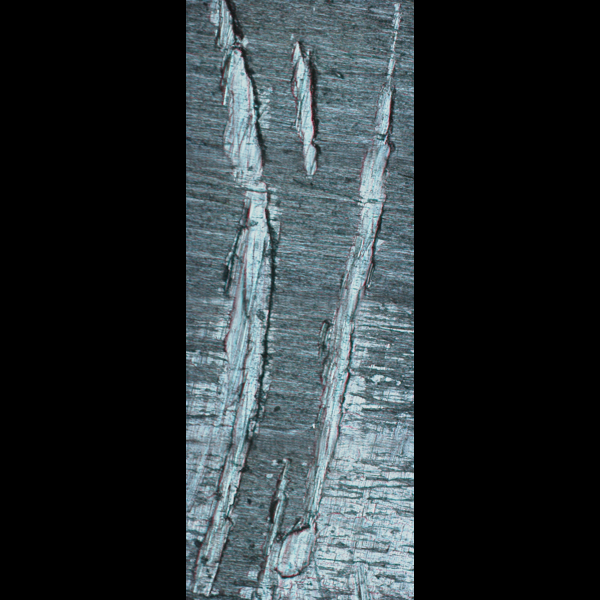d: (240, 3, 411, 599), (186, 0, 279, 599), (283, 37, 326, 184)
